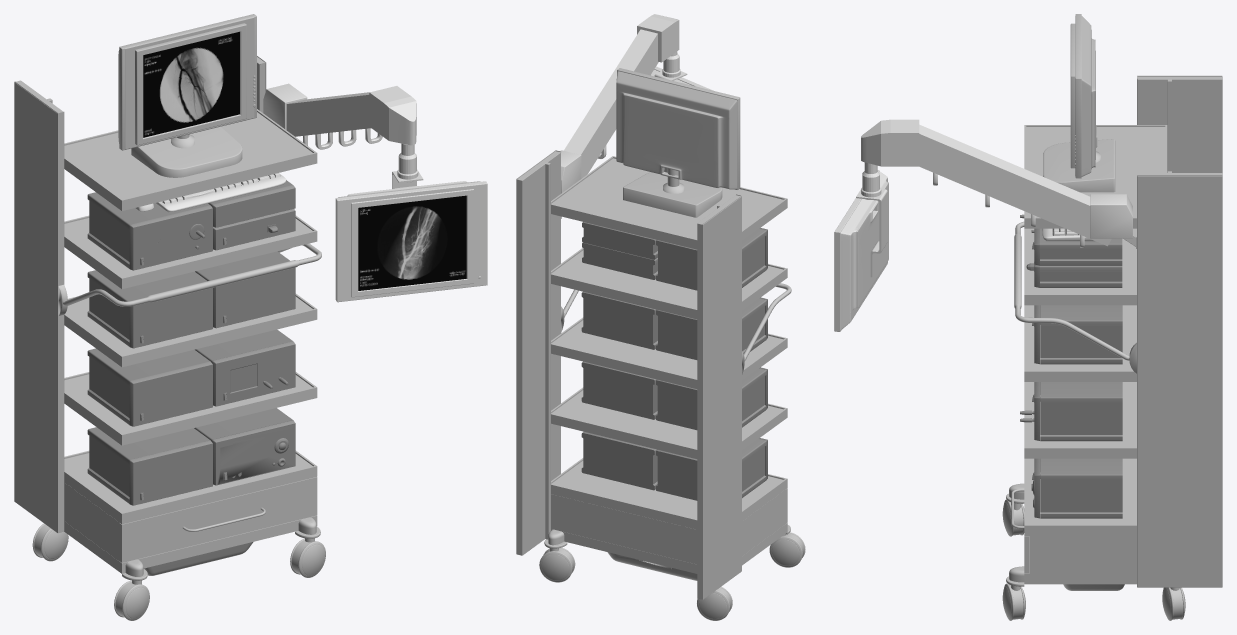
The model's file is Torre Artroscopia.fbx.
3 views of the same model, side by side, from view 1: azimuth 30°, elevation 25°; view 2: azimuth 150°, elevation 25°; view 3: azimuth 270°, elevation 25° (orthographic). The views are drawn at different scales.
Visible parts, largest first — view 1: Подставка, Plane01, Pantalla 2, ChamferCyl02, Pantalla 1, Monitor, obj_03; view 2: Подставка, Plane01, Monitor, ChamferCyl02; view 3: Подставка, Plane01, Monitor, ChamferCyl02.
Boxes of the visible parts, box(x1,y1,x2,y2) form: Подставка: box(14, 14, 325, 620); Plane01: box(87, 180, 295, 505); Pantalla 2: box(358, 195, 466, 290); ChamferCyl02: box(335, 143, 487, 302); Pantalla 1: box(143, 31, 239, 137); Monitor: box(263, 83, 416, 149); obj_03: box(155, 173, 286, 211); Подставка: box(516, 68, 805, 620); Plane01: box(581, 222, 767, 500); Monitor: box(560, 14, 679, 193); ChamferCyl02: box(651, 51, 713, 90); Подставка: box(1002, 14, 1222, 620); Plane01: box(1020, 214, 1122, 518); Monitor: box(861, 119, 1132, 247); ChamferCyl02: box(834, 162, 888, 331).
Size of the model in its own units: 1090 by 1993 by 1321.
Materials: 4 (2 with a texture image).
